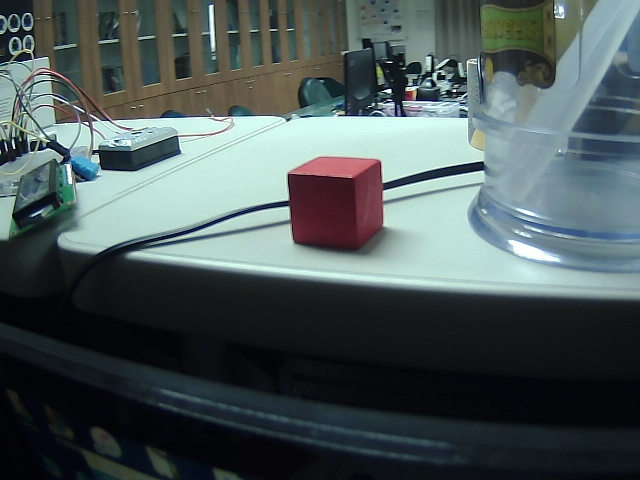redbox: (282, 153, 395, 253)
